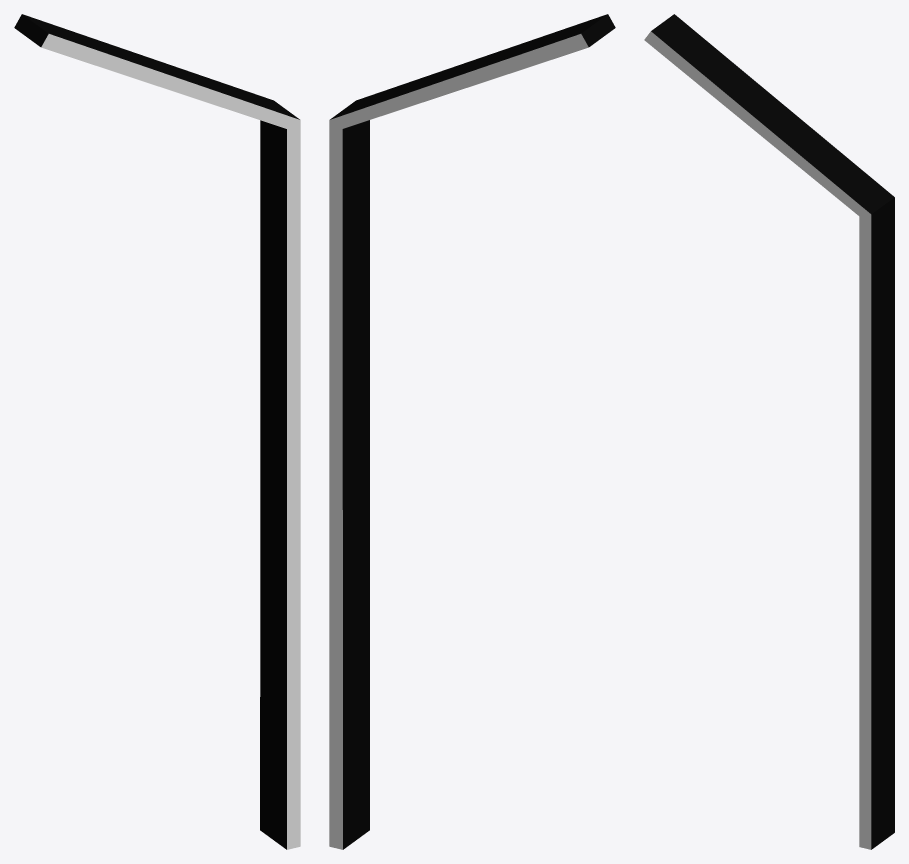
Rendered from Lantern.FBX.
The picture shows the model from 3 angles, left to right: view 1: azimuth 30°, elevation 25°; view 2: azimuth 150°, elevation 25°; view 3: azimuth 330°, elevation 25°; orthographic projection. The views are drawn at different scales.
Parts seen in each view (by area): view 1: Box001; view 2: Box001; view 3: Box001.
Part boxes in pixels (box(x1,y1,x2,y2)): Box001: box(14, 14, 300, 849); Box001: box(329, 14, 615, 849); Box001: box(644, 14, 894, 849).
Size of the model in its own units: 376 by 1208 by 67.35.
